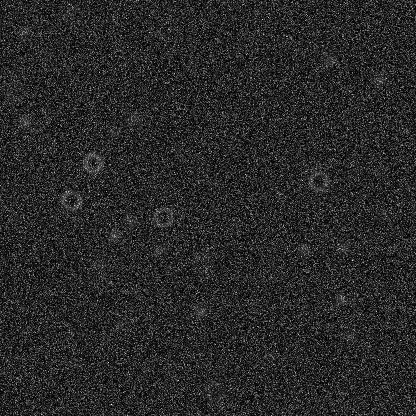Ring: (202, 379, 226, 403), (189, 251, 213, 275), (59, 187, 83, 211), (306, 168, 330, 192), (3, 80, 27, 104), (60, 3, 84, 27), (150, 204, 174, 228), (80, 151, 104, 175)
Spot: (91, 255, 107, 271), (371, 72, 387, 88), (150, 242, 166, 258), (73, 275, 89, 291), (320, 52, 336, 68), (16, 113, 32, 129), (335, 240, 351, 256), (191, 302, 207, 318), (16, 24, 32, 40), (125, 110, 141, 126), (105, 226, 121, 242), (259, 347, 275, 363), (111, 317, 127, 333), (105, 124, 121, 140), (331, 289, 347, 305), (123, 213, 139, 229), (342, 326, 358, 342), (297, 241, 313, 257)
